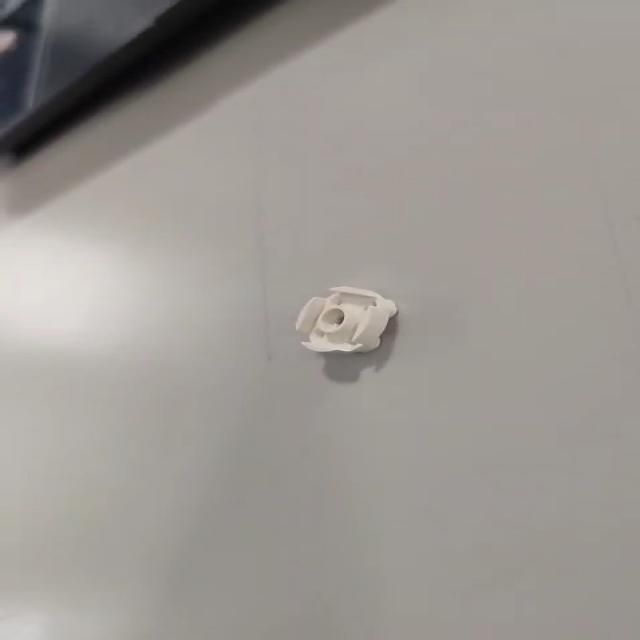S2x2x0: (292, 284, 398, 354)
